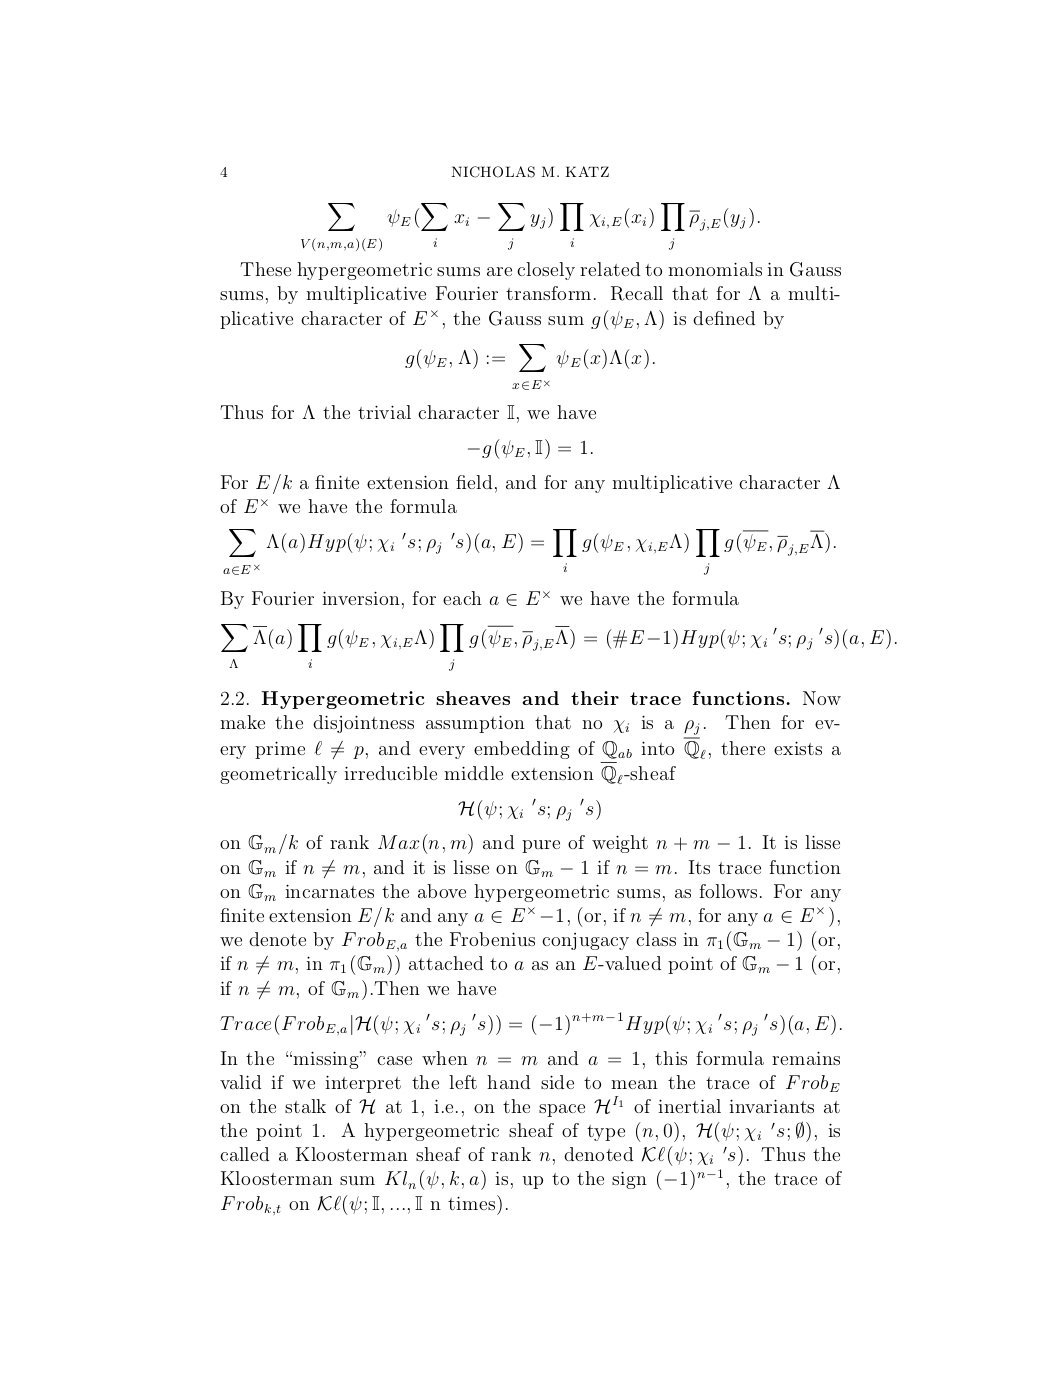formula: (221, 624, 896, 670), (223, 529, 835, 574), (301, 203, 759, 251), (405, 344, 654, 389), (458, 797, 600, 821), (467, 438, 592, 459)
